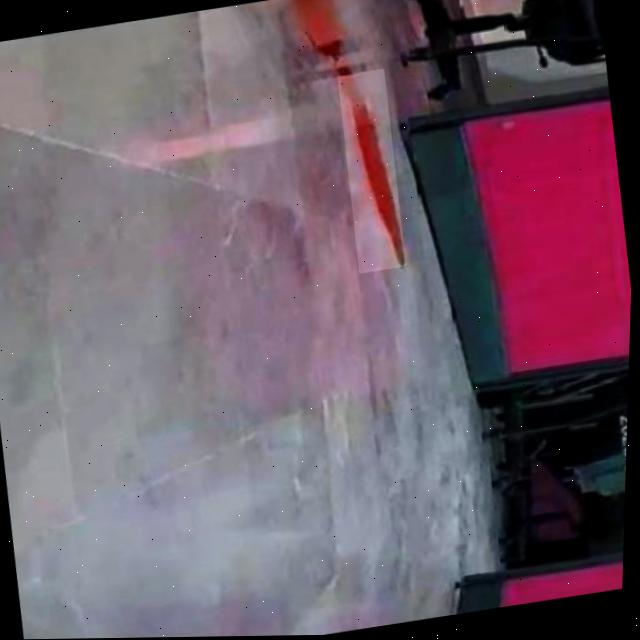spillage: (338, 77, 405, 269), (300, 0, 341, 64)
